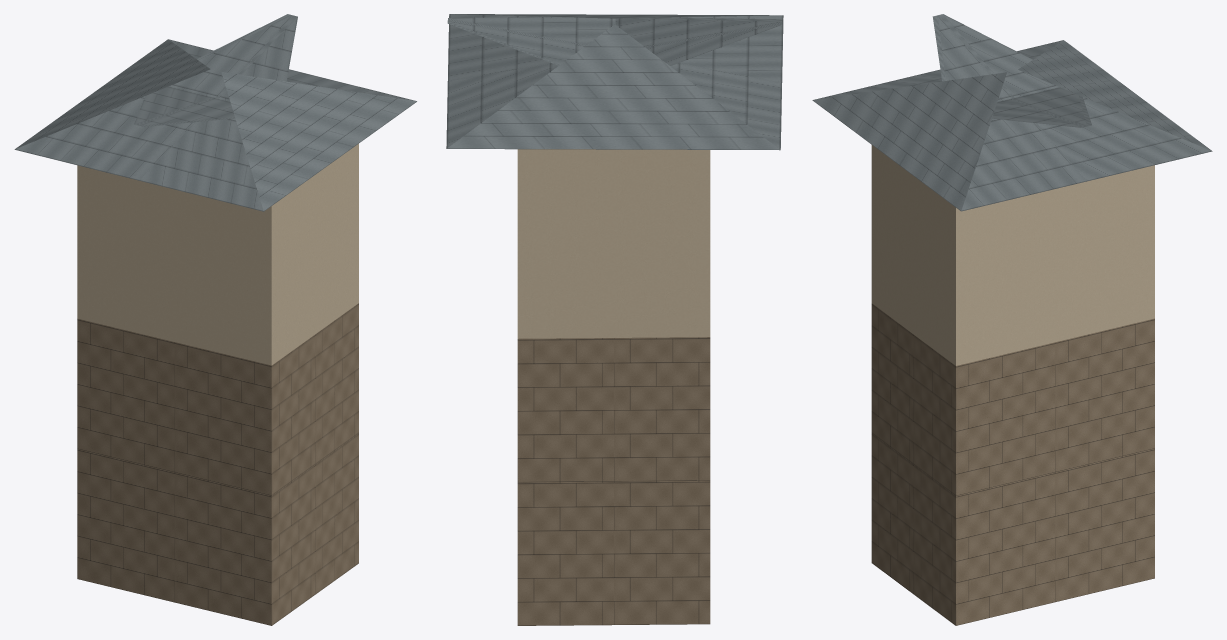
Rendered from bld_c23_29_393.gltf.
The picture shows the model from 3 angles, left to right: view 1: azimuth 30°, elevation 25°; view 2: azimuth 150°, elevation 25°; view 3: azimuth 270°, elevation 25°; orthographic projection. The views are drawn at different scales.
Visible parts, largest first — view 1: bld_c23_29_393; view 2: bld_c23_29_393; view 3: bld_c23_29_393.
Part boxes in pixels (left/top/right/bottom): bld_c23_29_393: left=14, top=14, right=416, bottom=625; bld_c23_29_393: left=446, top=14, right=783, bottom=625; bld_c23_29_393: left=812, top=14, right=1212, bottom=625.
Size of the model in its own units: 6.7 by 9.1 by 6.62.
Materials: 3 (3 with a texture image).
